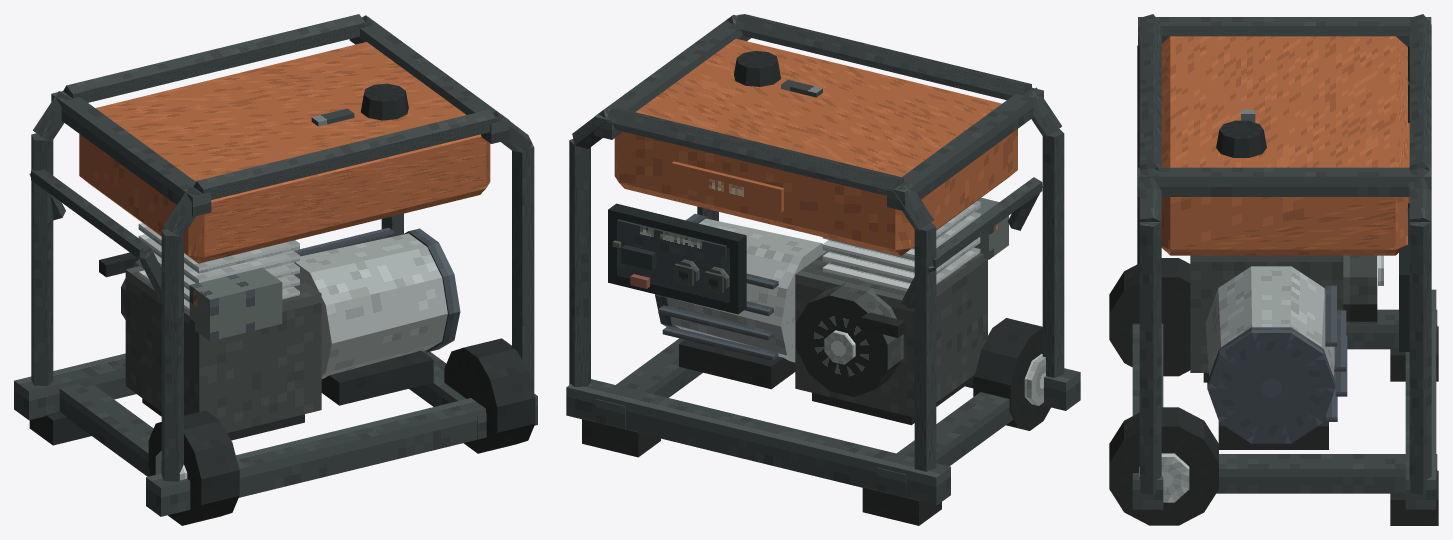
File: f_12000_gasoline_generator.glb
3 views of the same model, side by side, from view 1: azimuth 30°, elevation 25°; view 2: azimuth 150°, elevation 25°; view 3: azimuth 270°, elevation 25° (orthographic). The views are drawn at different scales.
Parts seen in each view (by area): view 1: block_pressed-steel-fuel-tank, block_crankcase, block_base-frame-rail (×2), block_alternator-body, block_bent-safety-cage-3 (×2), block_transport-tire (×2), block_bent-safety-cage-1 (×2), block_top-frame-crossbar (×2), block_crossmember (×2), block_heat-shielded-muffler, block_bent-safety-cage-5, block_alternator-mount (+11 smaller); view 2: block_pressed-steel-fuel-tank, block_base-frame-rail (×2), block_bent-safety-cage-3 (×2), block_crankcase, block_bent-safety-cage-1 (×2), block_top-frame-crossbar (×2), block_recessed-output-panel, block_recoil-starter-housing, block_alternator-body, block_crossmember (×2), block_bent-safety-cage-5, block_transport-tire (+16 smaller); view 3: block_pressed-steel-fuel-tank, block_top-frame-crossbar (×2), block_transport-tire (×2), block_bent-safety-cage-5 (×2), block_alternator-end-flange, block_crossmember (×2), block_alternator-body, block_bent-safety-cage-3 (×2), block_crankcase, block_base-frame-rail (×2), block_recoil-starter-housing, block_bent-safety-cage-4 (×2) (+7 smaller).
Boxes of the visible parts, x1=… form: block_pressed-steel-fuel-tank: x1=79, y1=42, x2=490, y2=263; block_crankcase: x1=125, y1=266, x2=321, y2=432; block_base-frame-rail (×2): x1=14, y1=353, x2=537, y2=516; block_alternator-body: x1=294, y1=233, x2=447, y2=378; block_bent-safety-cage-3 (×2): x1=63, y1=14, x2=496, y2=199; block_transport-tire (×2): x1=148, y1=338, x2=535, y2=525; block_bent-safety-cage-1 (×2): x1=31, y1=133, x2=183, y2=481; block_top-frame-crossbar (×2): x1=51, y1=17, x2=509, y2=216; block_crossmember (×2): x1=59, y1=350, x2=486, y2=476; block_heat-shielded-muffler: x1=189, y1=267, x2=282, y2=341; block_bent-safety-cage-5: x1=512, y1=144, x2=534, y2=392; block_alternator-mount: x1=321, y1=350, x2=433, y2=405; block_pressed-steel-fuel-tank: x1=614, y1=38, x2=1017, y2=255; block_base-frame-rail (×2): x1=566, y1=368, x2=1080, y2=505; block_bent-safety-cage-3 (×2): x1=606, y1=14, x2=1031, y2=195; block_crankcase: x1=795, y1=251, x2=987, y2=417; block_bent-safety-cage-1 (×2): x1=914, y1=129, x2=1064, y2=471; block_top-frame-crossbar (×2): x1=594, y1=15, x2=1043, y2=211; block_recessed-output-panel: x1=608, y1=203, x2=746, y2=314; block_recoil-starter-housing: x1=796, y1=282, x2=903, y2=396; block_alternator-body: x1=667, y1=218, x2=826, y2=362; block_crossmember (×2): x1=596, y1=338, x2=1013, y2=497; block_bent-safety-cage-5: x1=569, y1=139, x2=590, y2=386; block_transport-tire: x1=973, y1=318, x2=1050, y2=430; block_pressed-steel-fuel-tank: x1=1161, y1=36, x2=1407, y2=255; block_top-frame-crossbar (×2): x1=1138, y1=17, x2=1431, y2=196; block_transport-tire (×2): x1=1109, y1=258, x2=1218, y2=525; block_bent-safety-cage-5 (×2): x1=1139, y1=222, x2=1431, y2=494; block_alternator-end-flange: x1=1207, y1=327, x2=1335, y2=443; block_crossmember (×2): x1=1216, y1=309, x2=1437, y2=493; block_alternator-body: x1=1205, y1=266, x2=1334, y2=376; block_bent-safety-cage-3 (×2): x1=1139, y1=14, x2=1431, y2=171; block_crankcase: x1=1190, y1=255, x2=1343, y2=372; block_base-frame-rail (×2): x1=1132, y1=289, x2=1436, y2=509; block_recoil-starter-housing: x1=1343, y1=255, x2=1377, y2=324; block_bent-safety-cage-4 (×2): x1=1139, y1=168, x2=1431, y2=221.
Bounding box in the file's own units: 0.8993 × 0.7725 × 0.6507.
Materials: 2 (2 with a texture image).
